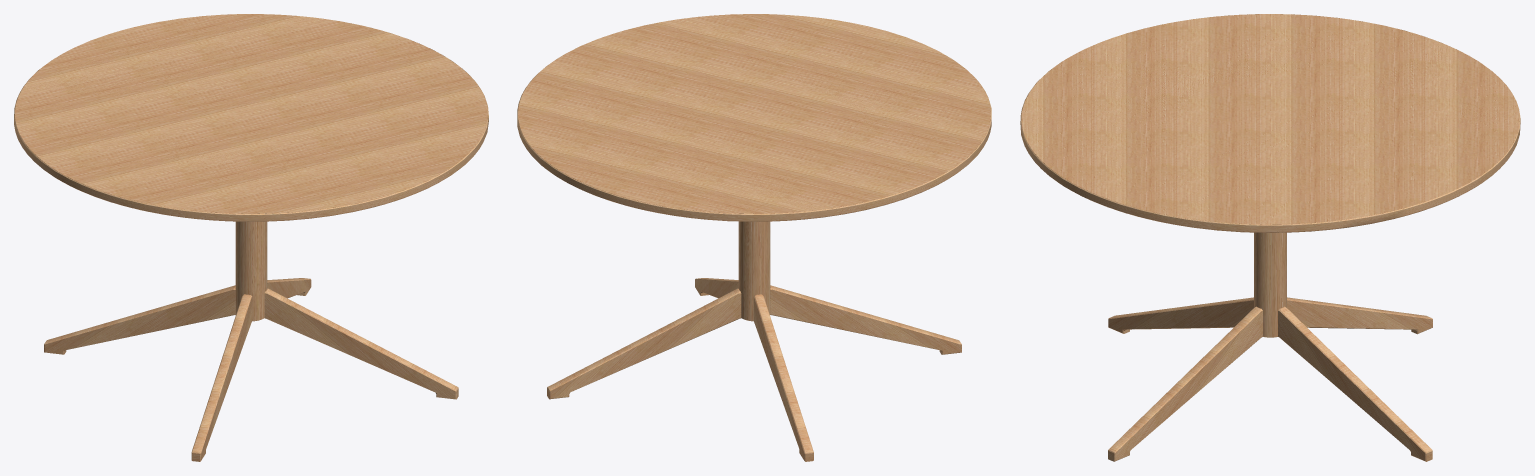
File: stolik.dae
3 renders of one model, left to right at view 1: azimuth 30°, elevation 25°; view 2: azimuth 150°, elevation 25°; view 3: azimuth 270°, elevation 25°, orthographic. The views are drawn at different scales.
Visible parts, largest first — view 1: ID13 (×7); view 2: ID13 (×7); view 3: ID13 (×7).
Boxes of the visible parts, x1=… form: ID13 (×7): x1=14, y1=14, x2=488, y2=461; ID13 (×7): x1=517, y1=14, x2=991, y2=461; ID13 (×7): x1=1020, y1=14, x2=1520, y2=461.
Size of the model in its own units: 1200 by 1200 by 726.
2 materials, 1 textured.
